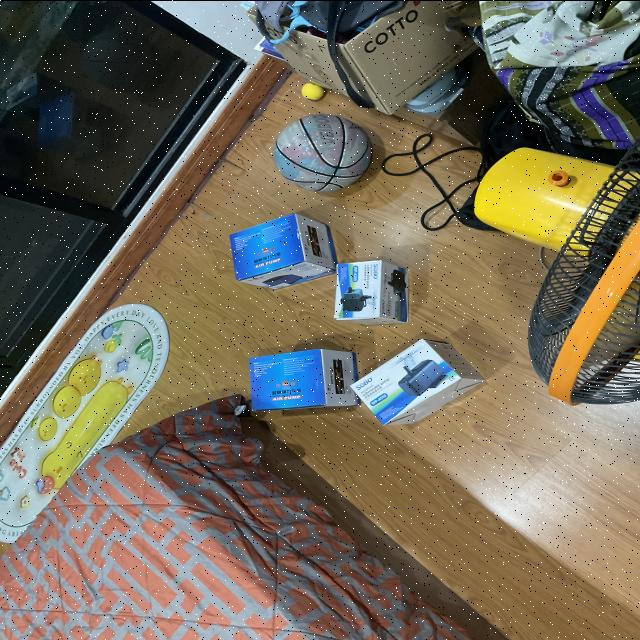SOBO_WP_4200: (342, 336, 476, 430), (318, 251, 412, 328)
YAMANO_LPP_20: (239, 330, 363, 420), (211, 209, 331, 297)
